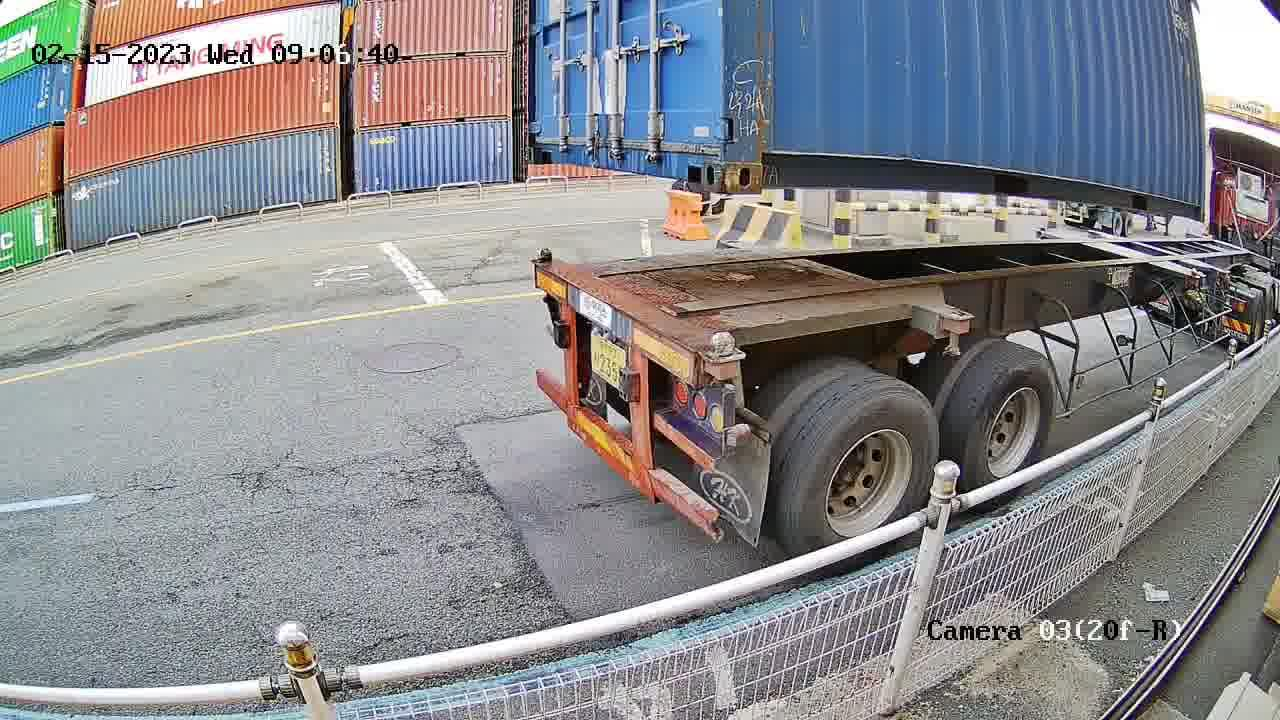Chassis: (534, 262, 706, 386)
Cone: (704, 331, 740, 384), (532, 243, 557, 273)
Hole_L: (723, 100, 800, 193), (525, 107, 566, 165)
Hole_R: (665, 98, 724, 193)
Tire: (797, 387, 941, 549), (964, 357, 1057, 480)
